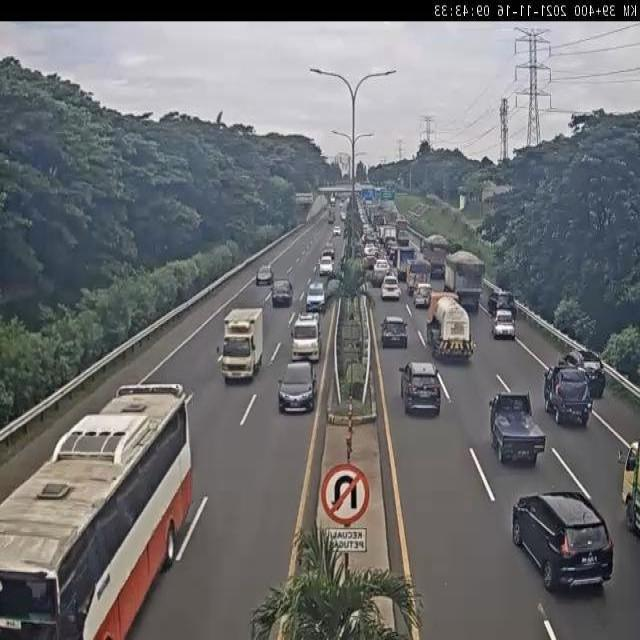Bus: (0, 378, 194, 640)
Car: (512, 490, 615, 591), (488, 388, 548, 466), (424, 290, 474, 358), (542, 368, 594, 425), (397, 360, 442, 415), (276, 360, 318, 417), (617, 439, 640, 538), (565, 352, 606, 396), (379, 316, 408, 348), (491, 309, 517, 340), (306, 278, 326, 314), (270, 280, 294, 309), (488, 288, 514, 312), (380, 275, 400, 301), (414, 283, 434, 308), (254, 264, 274, 288), (372, 257, 391, 282), (316, 256, 336, 279), (322, 241, 337, 257), (332, 225, 342, 238)
Truck: (216, 306, 263, 386), (444, 250, 486, 312), (289, 308, 322, 364), (420, 234, 449, 278), (405, 257, 433, 291), (396, 247, 420, 274)
